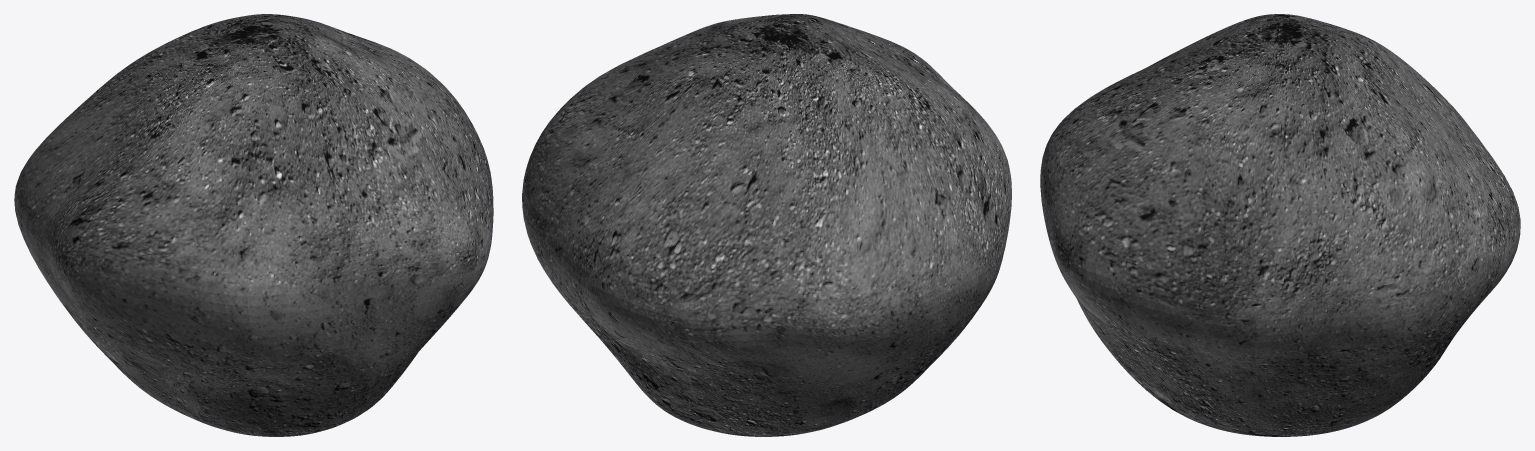
File: bennu.glb
3 views of the same model, side by side, from view 1: azimuth 30°, elevation 25°; view 2: azimuth 150°, elevation 25°; view 3: azimuth 270°, elevation 25° (orthographic).
Parts seen in each view (by area): view 1: Sphere; view 2: Sphere; view 3: Sphere.
Part boxes in pixels (<box>): Sphere: <box>14,14,493,436</box>; Sphere: <box>522,14,1011,436</box>; Sphere: <box>1040,14,1520,436</box>.
Bounding box in the file's own units: 3.37 × 2.88 × 3.35.
1 material, 1 textured.
